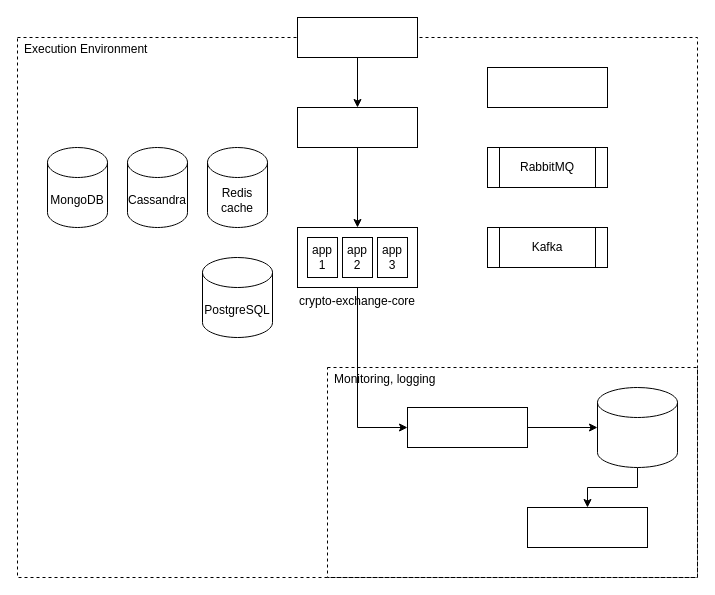
This 715x595 diagram has some shape labels left out. The centre of each missing label's shape, as x and y in pixels:
Fluent-bit: the point at 467,427
Frontend (nginx): the point at 357,127
Keycloack: the point at 547,87
Load Balancer: the point at 357,37
OpenSearch: the point at 637,427
Opensearch Dashboards: the point at 587,527
